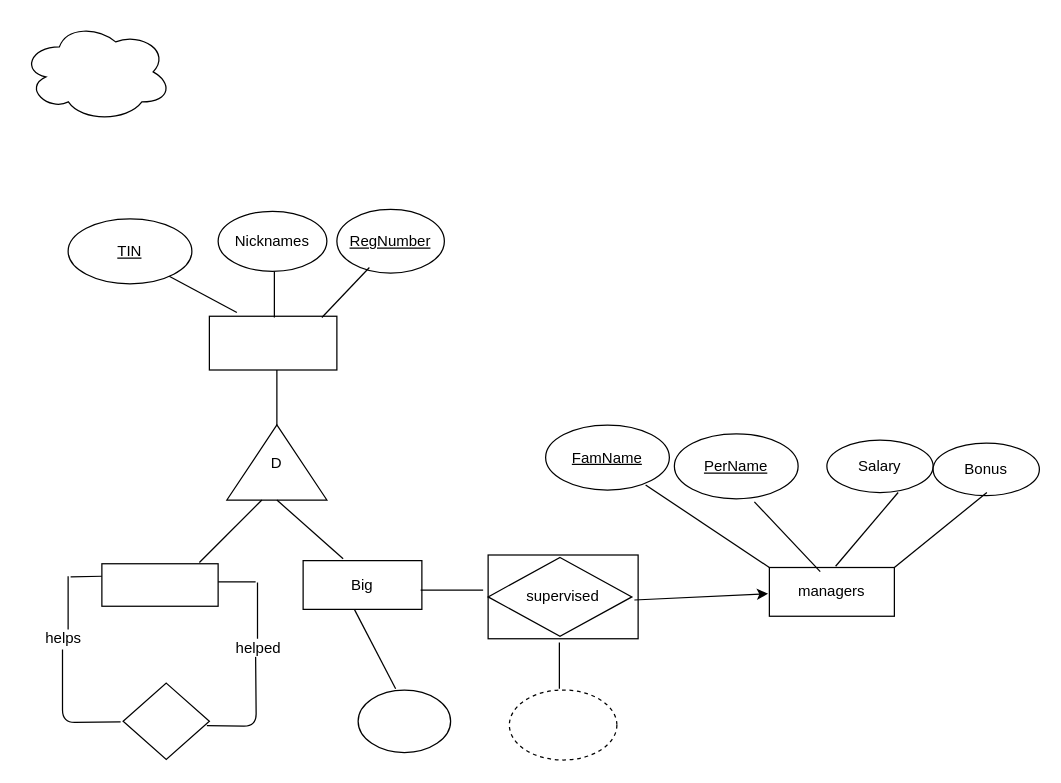
Some shapes in this 1061 by 783 pixel diagram are drawn without their labels. The centre of each missing label's shape, as x and y in pixels:
"Company" goes at pixel 272 342.
"helper" goes at pixel 165 720.
"jy3555" goes at pixel 96 71.
"Small" goes at pixel 159 584.
"Start" goes at pixel 562 724.
"value" goes at pixel 404 720.
